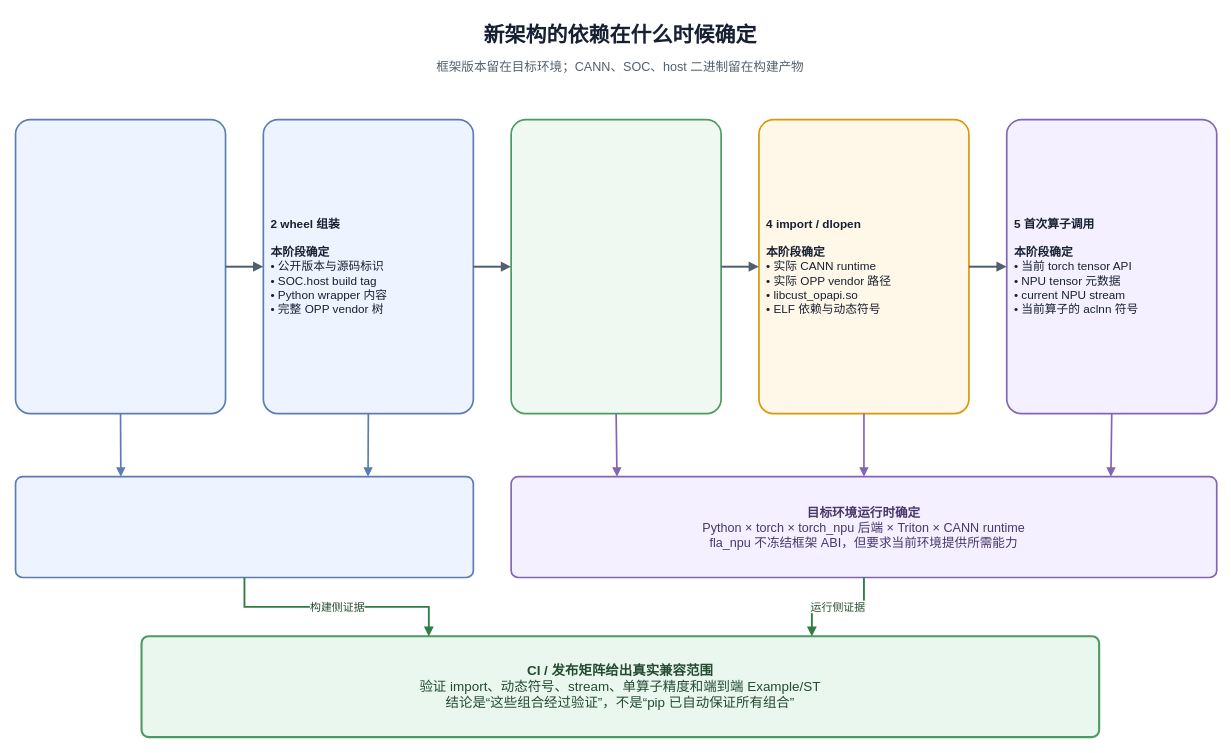
This 1231x753 diagram has some shape labels left out. The shapes that lost their labels are listed below. From the top down, each one's box as (x1, y1, x2, y2) in pixels, then its label:
(14, 118, 226, 414): 1 OPP 构建 本阶段确定 • CANN 编译接口与工具链 • 目标 SOC • host 架构 • gcc / libstdc++ 基线
(510, 118, 722, 414): 3 pip 安装 本阶段确定 • 目标 Python 环境 • Python >= 3.9 门禁 • 普通 Python 依赖 • 被选择的 wheel 文件
(14, 475, 474, 578): 构建产物已经固定 CANN 编译接口 × SOC kernel × host ELF × 工具链基线 这些依赖不能因 py3-none-any 命名而被忽略
